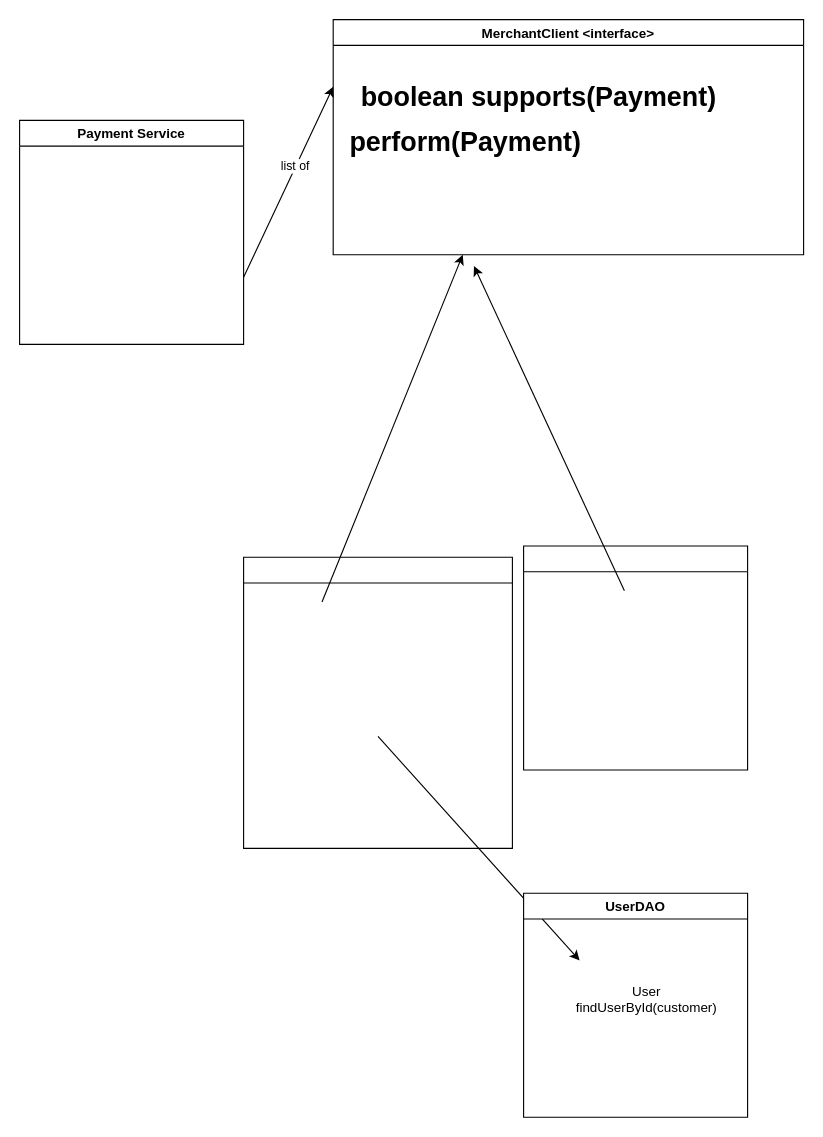
Some shapes in this 823 by 1137 pixel diagram are drawn without their labels. The centre of each missing label's shape, as x and y in pixels:
"MerchantBClient" goes at (635,657).
"RESTMerchantAClient" goes at (377,702).
